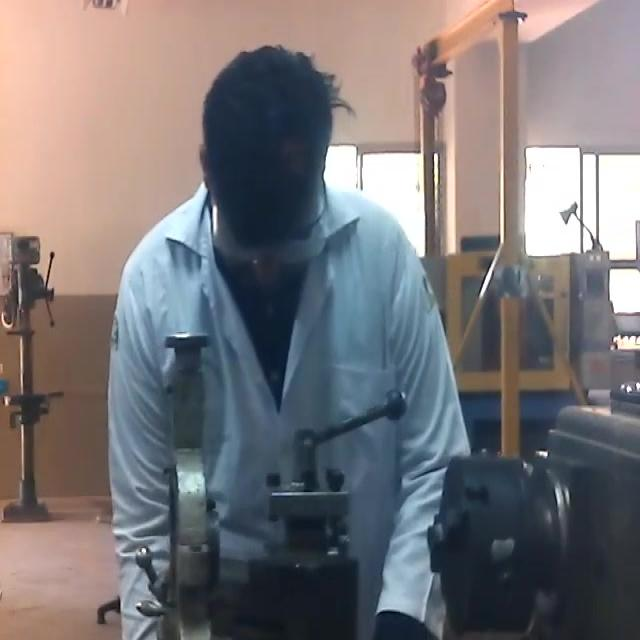googles: (210, 208, 324, 280)
labcoat: (106, 177, 472, 640)
